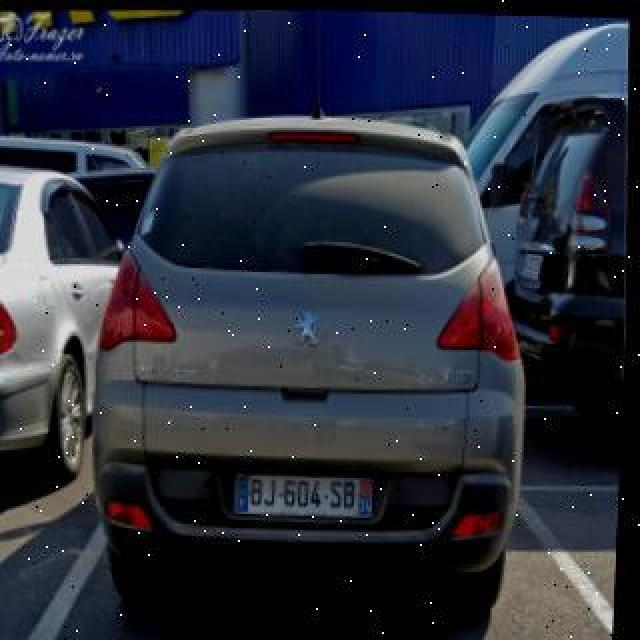EU: (231, 476, 373, 517)
France: (232, 478, 248, 513)
